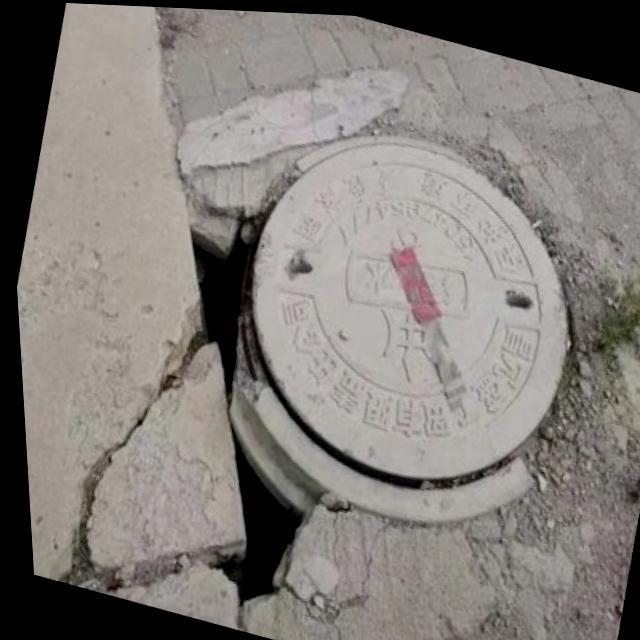manhole: (101, 52, 634, 558)
